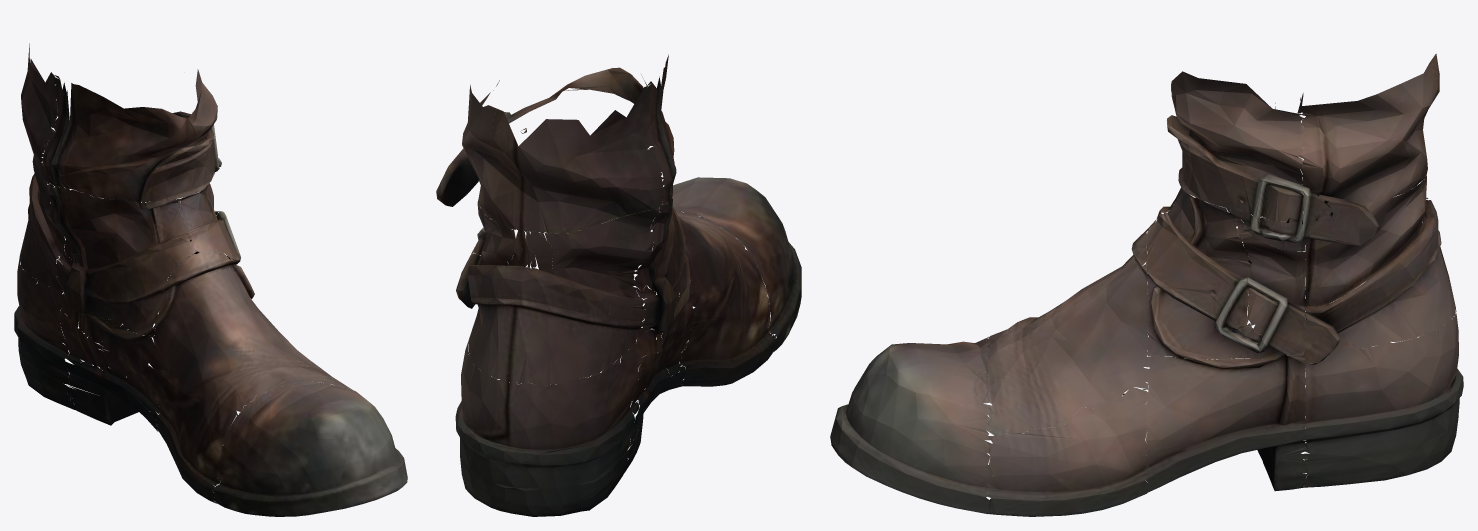
File: a_ranger_boots_R_foot.glb
3 views of the same model, side by side, from view 1: azimuth 30°, elevation 25°; view 2: azimuth 150°, elevation 25°; view 3: azimuth 270°, elevation 25° (orthographic). The views are drawn at different scales.
Visible parts, largest first — view 1: geometry_0.002; view 2: geometry_0.002; view 3: geometry_0.002.
Part boxes in pixels (bbox=[...]): geometry_0.002: bbox=[14, 43, 407, 516]; geometry_0.002: bbox=[436, 54, 801, 516]; geometry_0.002: bbox=[830, 53, 1463, 516].
Size of the model in its own units: 0.1164 by 0.1797 by 0.2552.
1 material, 1 textured.
